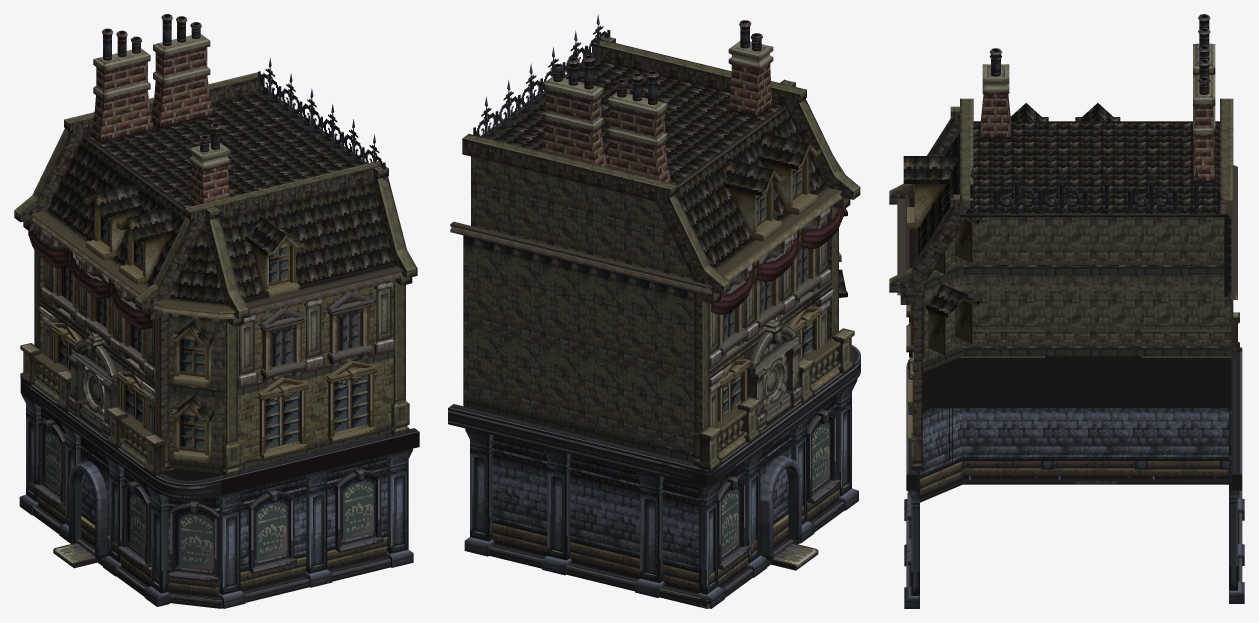
File: EnvBdgMD_City_B_Outdoor_L_B_Bluewall_A.FBX
3 views of the same model, side by side, from view 1: azimuth 30°, elevation 25°; view 2: azimuth 150°, elevation 25°; view 3: azimuth 270°, elevation 25° (orthographic). The views are drawn at different scales.
Parts seen in each view (by area): view 1: EnvBdgMD_City_B_Outdoor_L_B_Bluewall_A; view 2: EnvBdgMD_City_B_Outdoor_L_B_Bluewall_A; view 3: EnvBdgMD_City_B_Outdoor_L_B_Bluewall_A.
Boxes of the visible parts, left/top/right/bottom form: EnvBdgMD_City_B_Outdoor_L_B_Bluewall_A: left=14, top=14, right=419, bottom=608; EnvBdgMD_City_B_Outdoor_L_B_Bluewall_A: left=448, top=14, right=860, bottom=608; EnvBdgMD_City_B_Outdoor_L_B_Bluewall_A: left=889, top=14, right=1244, bottom=608.
Bounding box in the file's own units: 740 × 1245 × 793.
1 material, 1 textured.
